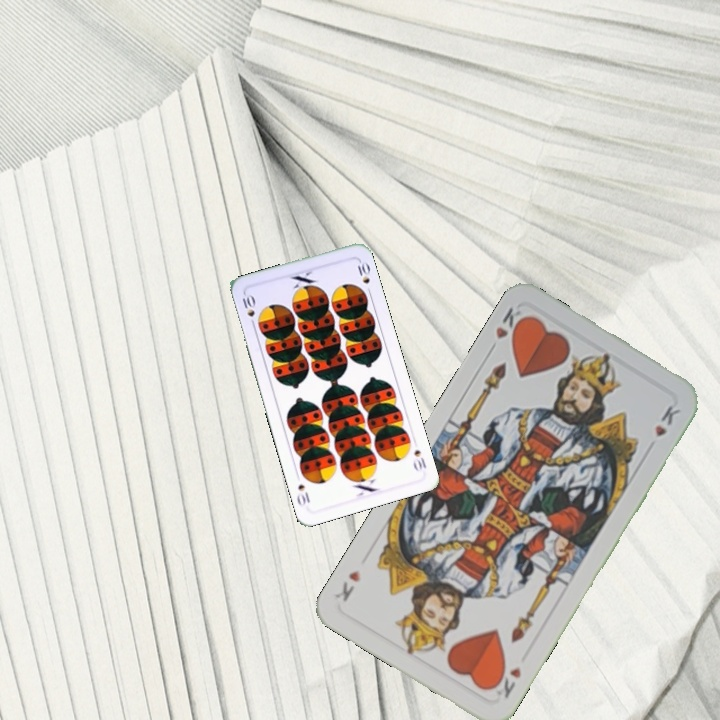HK: (484, 303, 530, 356), (487, 661, 524, 701)
S10: (238, 290, 258, 330), (409, 446, 429, 474)
